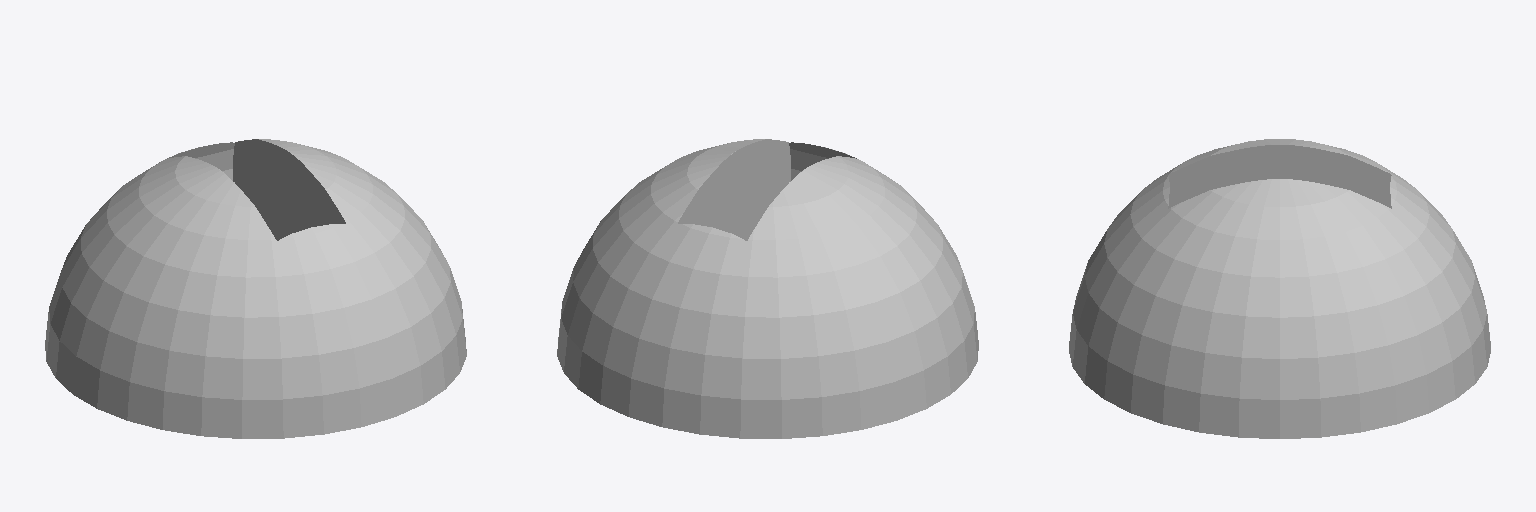
Rendered from v3_cutout.obj.
3 views of the same model, side by side, from view 1: azimuth 30°, elevation 25°; view 2: azimuth 150°, elevation 25°; view 3: azimuth 270°, elevation 25° (orthographic).
Parts seen in each view (by area): view 1: Sphere; view 2: Sphere; view 3: Sphere.
Part boxes in pixels (left/top/right/bottom): Sphere: left=45, top=139, right=466, bottom=438; Sphere: left=557, top=139, right=978, bottom=438; Sphere: left=1069, top=139, right=1490, bottom=438.
Bounding box in the file's own units: 25 × 12.26 × 25.